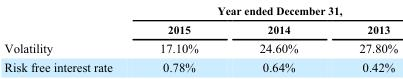table: (3, 3, 397, 73)
table column: (3, 3, 135, 73), (228, 3, 328, 73), (135, 3, 228, 73), (328, 3, 397, 73)
table column header: (3, 3, 397, 37)
table row: (3, 37, 397, 56), (3, 19, 397, 37), (3, 56, 397, 73), (3, 3, 397, 19)
table spanning cell: (135, 3, 397, 19)
